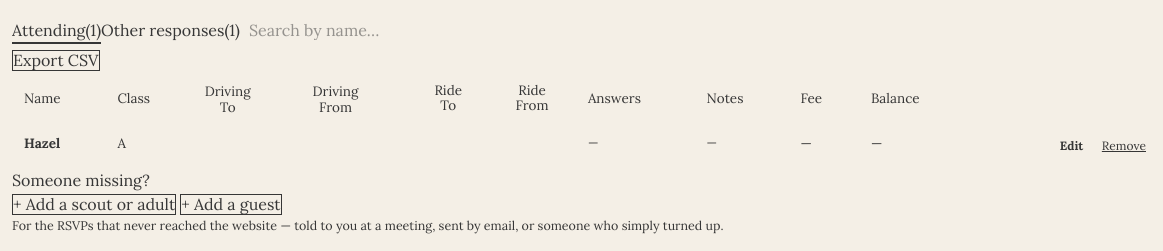
Test case: RosterTable — one line per name › DriverOnlyAndContributors_LiveOnTheOtherResponsesTab_WithParticipation
Expected: the text "Kevin Pieper" is not shown
What coordinates should you click on to do the following:
click the tab "Other responses (1)"
I would click on:
 (171, 31)
Its box is [101, 18, 240, 44].
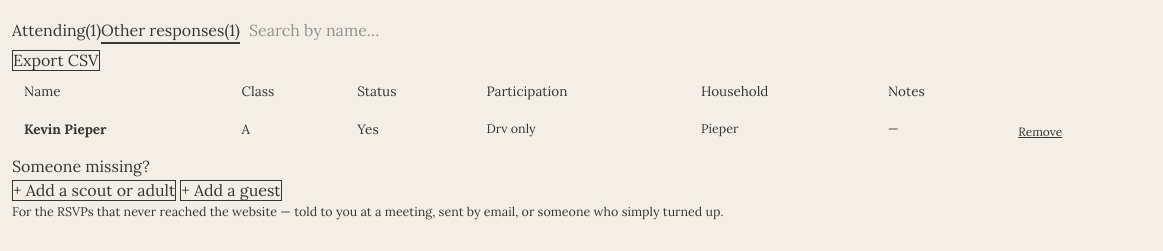
Expected: the text "Kevin Pieper" is shown, [24, 120, 106, 138]
Expected: the text "Drv only" is shown, [474, 110, 689, 154]
